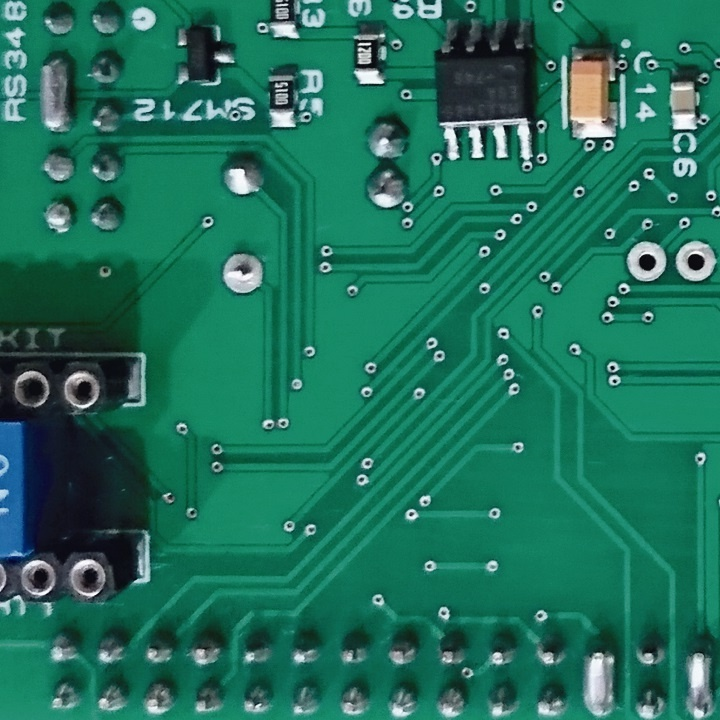F: (219, 249, 267, 299), (673, 238, 720, 288), (623, 239, 669, 286)
P: (30, 46, 81, 140), (680, 635, 720, 720), (581, 635, 619, 720)
